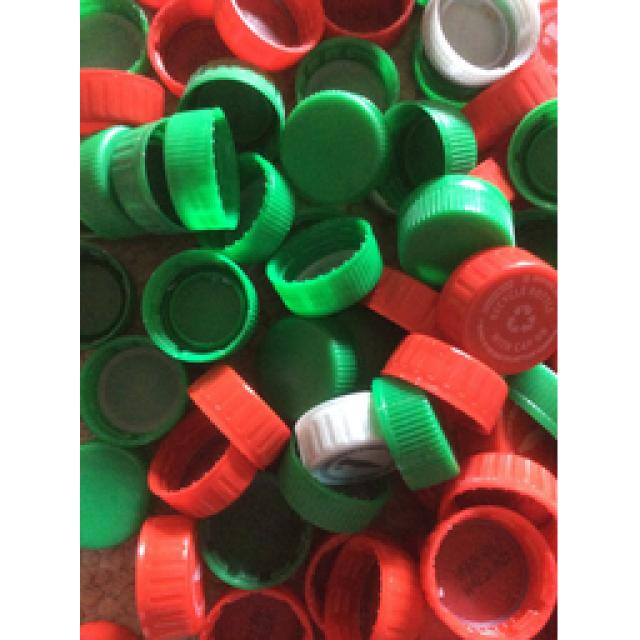plastic: (85, 1, 556, 640)
